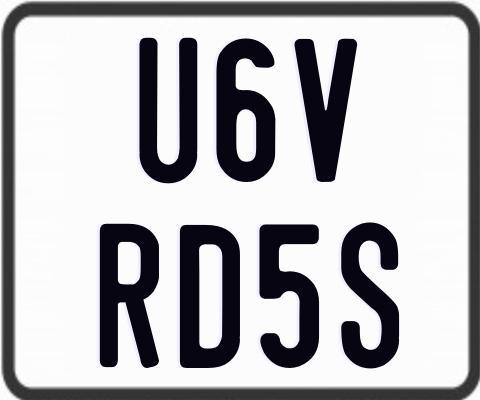5: (259, 224, 322, 372)
6: (216, 37, 277, 185)
D: (179, 225, 239, 370)
R: (99, 224, 162, 370)
S: (340, 220, 401, 367)
U: (136, 36, 194, 182)
V: (294, 39, 358, 183)
